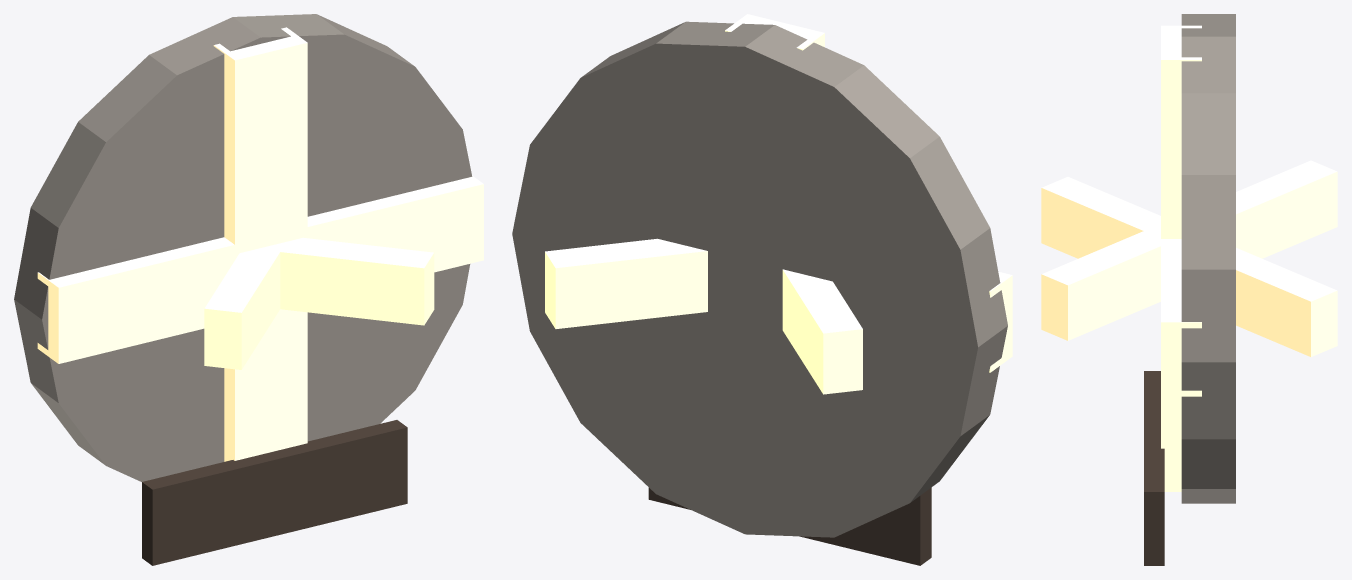
Rendered from bounty_emblem.glb.
The picture shows the model from 3 angles, left to right: view 1: azimuth 30°, elevation 25°; view 2: azimuth 150°, elevation 25°; view 3: azimuth 270°, elevation 25°; orthographic projection. The views are drawn at different scales.
Visible parts, largest first — view 1: bounty_emblem; view 2: bounty_emblem; view 3: bounty_emblem.
Part boxes in pixels (bbox=[...]): bounty_emblem: bbox=[14, 14, 483, 565]; bounty_emblem: bbox=[512, 14, 1012, 565]; bounty_emblem: bbox=[1041, 14, 1337, 565].
Bounding box in the file's own units: 0.72 × 0.76 × 0.4349.
